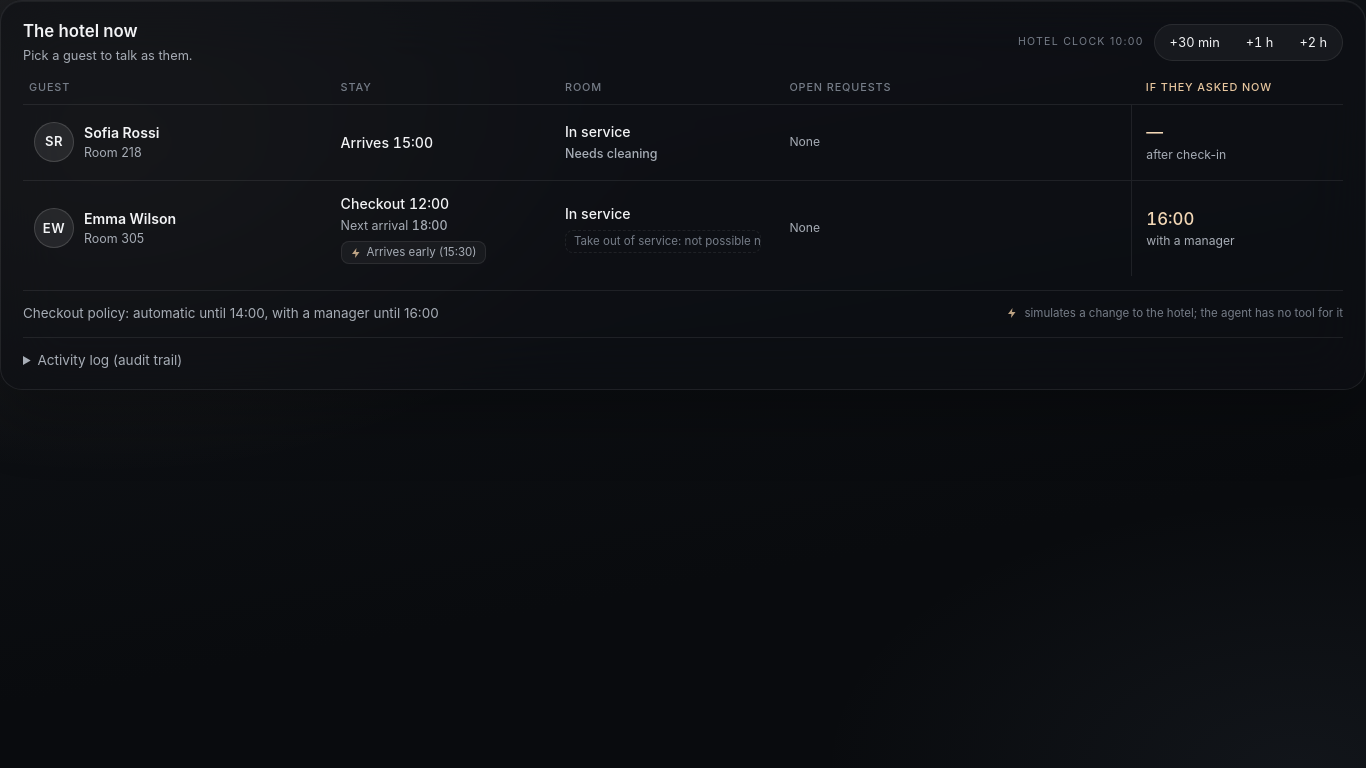
Scenario: Hotel board › says what the clock move itself changed
This screenshot has width=1366, height=768.
Click the button "+2 h" at (1313, 42), box [1287, 28, 1339, 57]
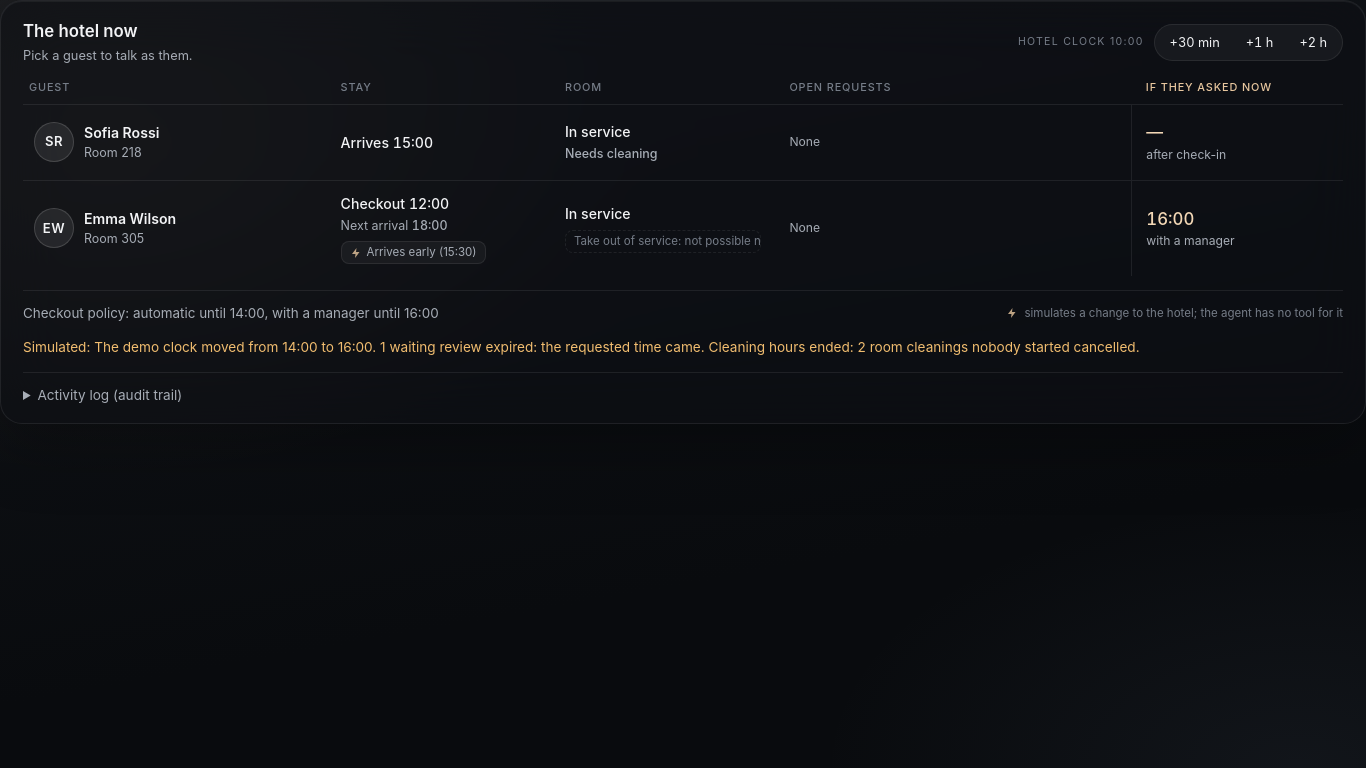
Check: the message with test id "world-result" shows "1 waiting review expired: the requested time came.", box [23, 340, 1140, 356]
Check: the message with test id "world-result" shows "Cleaning hours ended: 2 room cleanings nobody started cancelled.", box [23, 340, 1140, 356]
